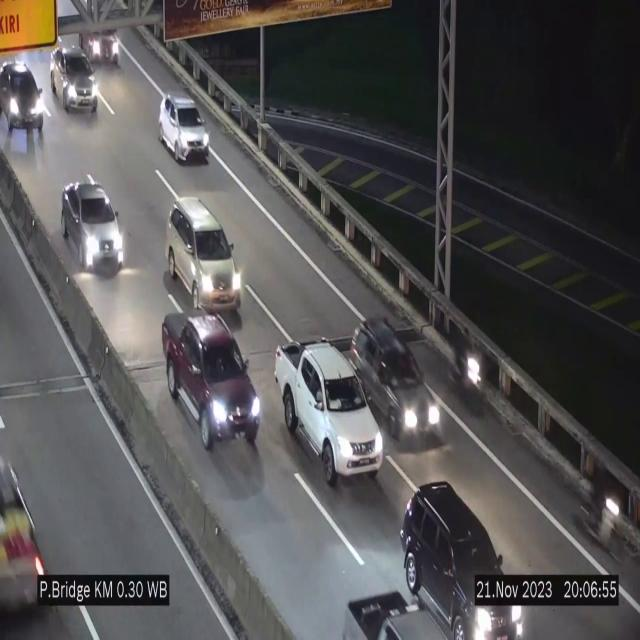Car: (398, 476, 522, 640), (275, 340, 384, 486), (162, 313, 262, 464), (354, 317, 444, 443), (166, 197, 242, 318), (62, 180, 124, 272), (0, 59, 56, 142), (50, 40, 99, 117), (159, 93, 209, 161), (80, 19, 124, 65)
Motorcycle: (586, 464, 630, 561), (456, 320, 486, 409)
Truck: (0, 444, 54, 638), (335, 584, 455, 640)
